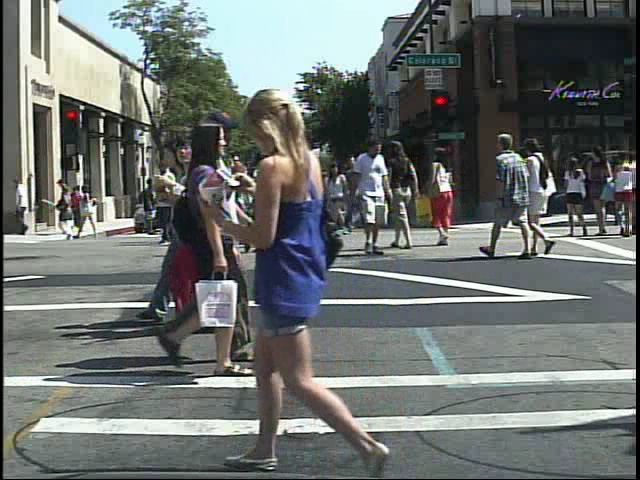person: (218, 74, 405, 477), (141, 119, 257, 381), (150, 134, 257, 342), (208, 104, 282, 366), (153, 131, 197, 333), (350, 134, 396, 262), (489, 127, 528, 262), (523, 133, 562, 262), (212, 140, 253, 260), (253, 150, 296, 261), (425, 144, 468, 253), (256, 148, 299, 250), (392, 137, 426, 256), (216, 151, 254, 252), (185, 154, 224, 251), (562, 149, 594, 240), (161, 172, 182, 241), (68, 182, 88, 232)
